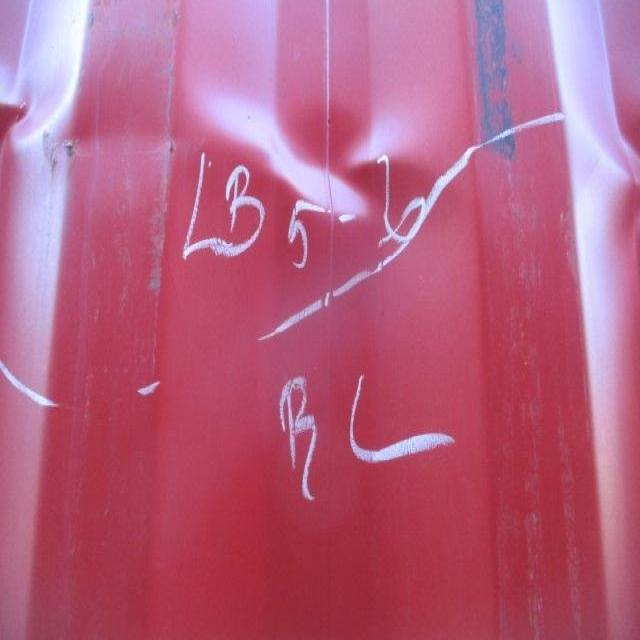Dent: (10, 35, 637, 309)
